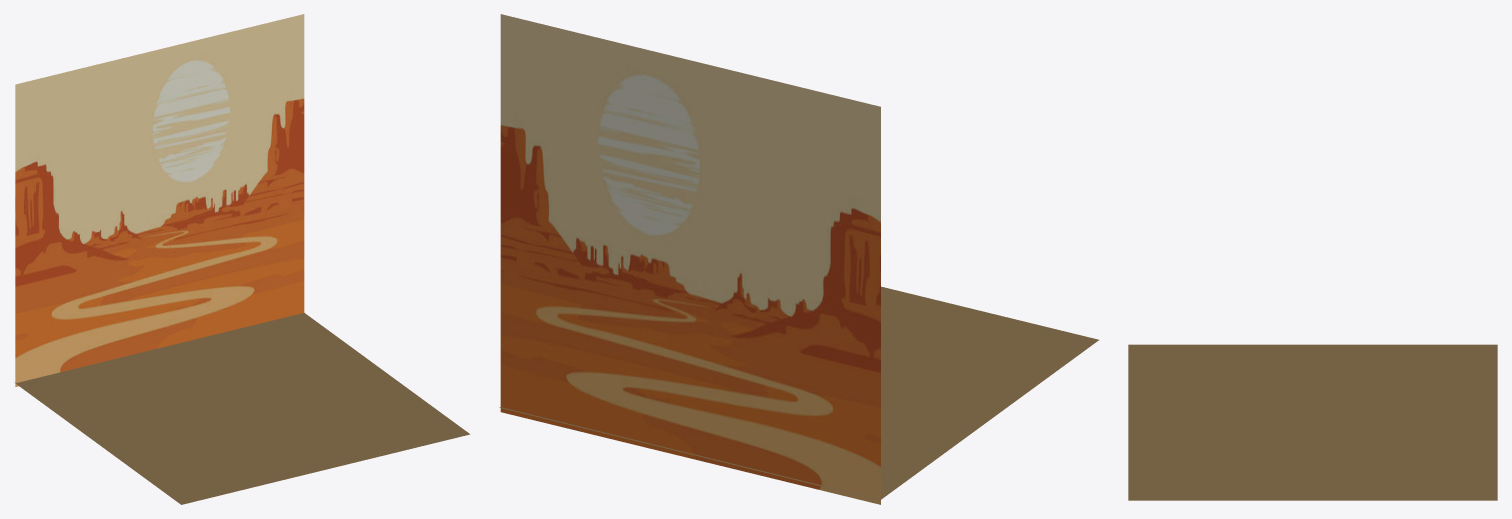
File: TestBg00.fbx
3 views of the same model, side by side, from view 1: azimuth 30°, elevation 25°; view 2: azimuth 150°, elevation 25°; view 3: azimuth 270°, elevation 25° (orthographic). The views are drawn at different scales.
Parts seen in each view (by area): view 1: pPlane2, pPlane1; view 2: pPlane2, pPlane1; view 3: pPlane1.
Boxes of the visible parts, box(x1,y1,x2,y2) form: pPlane2: box(15, 14, 304, 386); pPlane1: box(14, 313, 470, 504); pPlane2: box(500, 14, 880, 504); pPlane1: box(499, 286, 1098, 500); pPlane1: box(1128, 344, 1497, 500).
Bounding box in the file's own units: 1 × 1 × 1.
Materials: 2 (1 with a texture image).
